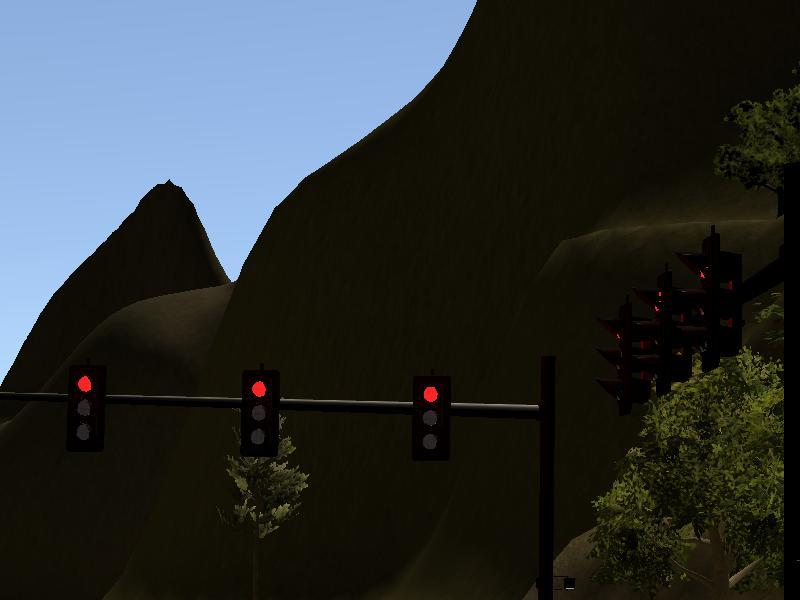Red: (69, 371, 104, 455), (240, 369, 274, 452), (413, 377, 447, 456)
